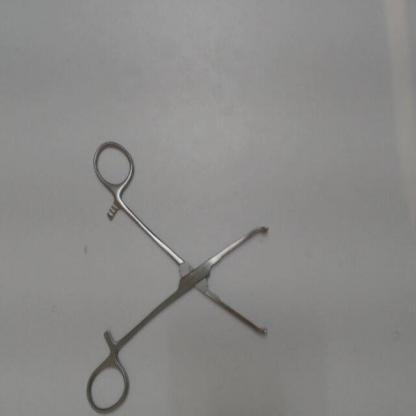Allis Tissue Forceps: (82, 134, 278, 414)
